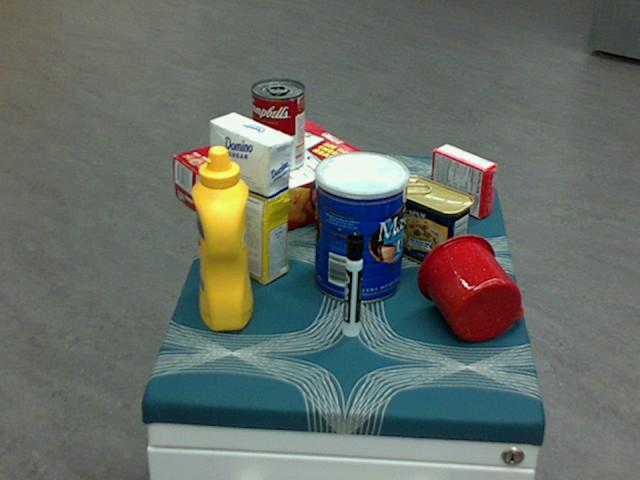cracker_box: (172, 118, 374, 249)
gelatin_box: (430, 144, 497, 218)
large_marker: (343, 231, 362, 338)
master_chef_can: (314, 151, 409, 303)
mug: (417, 233, 522, 341)
mustard_bottle: (191, 146, 252, 331)
potted_meat_can: (387, 175, 473, 269)
sugar_box: (209, 113, 291, 286)
tomato_soup_can: (250, 79, 305, 173)
tuna_fish_can: (308, 158, 378, 228)
